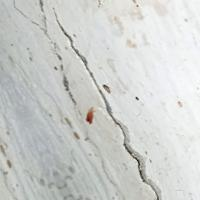crack: (46, 3, 168, 199)
